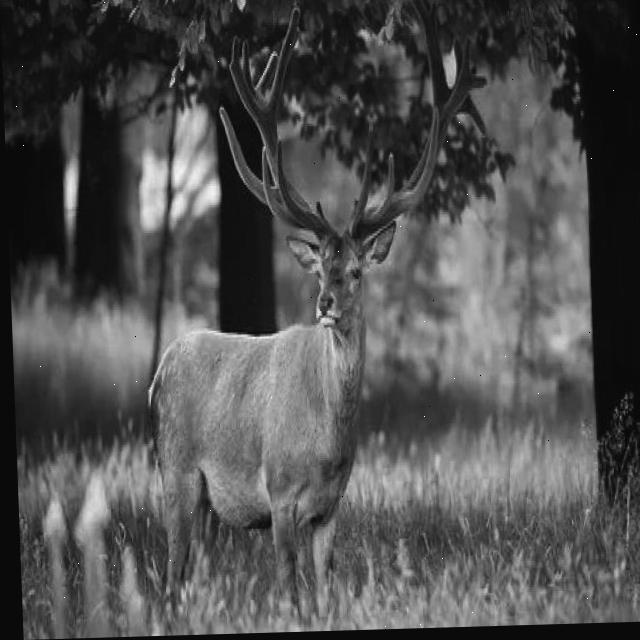Deer: (114, 71, 466, 563)
